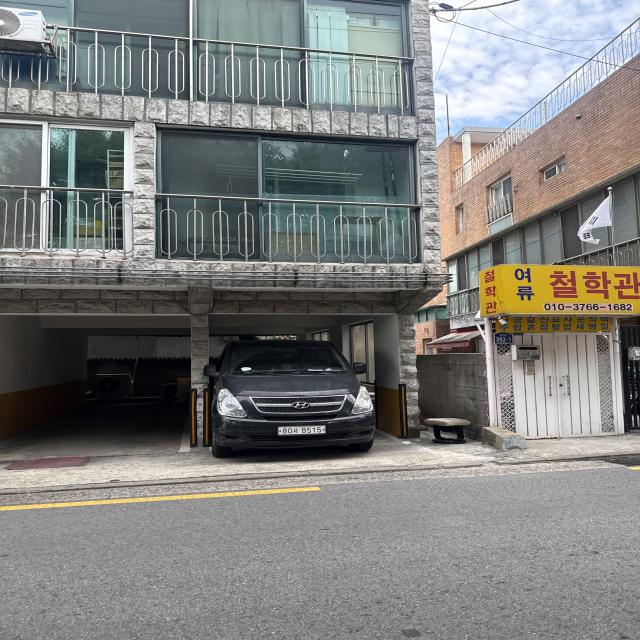car: (175, 318, 388, 472)
